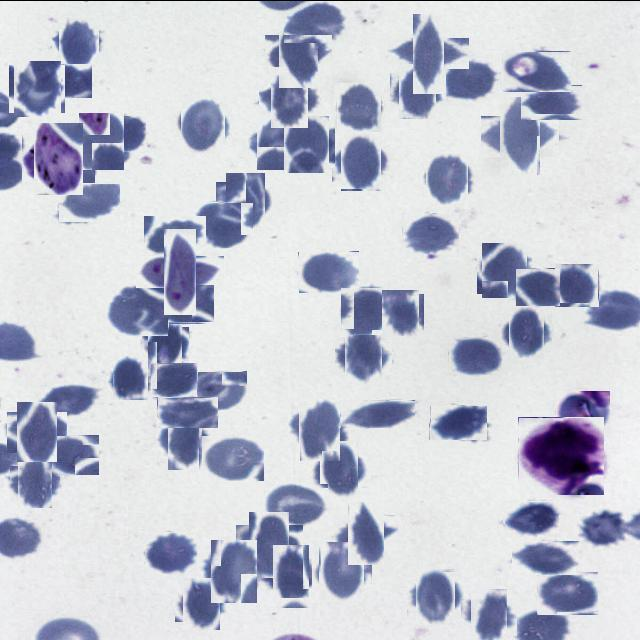leukocyte: (518, 416, 604, 494)
red blood cell: (490, 106, 550, 165), (108, 284, 170, 335), (401, 24, 456, 80), (206, 543, 261, 598), (242, 517, 296, 571), (201, 434, 264, 480), (272, 27, 325, 81), (263, 483, 328, 527), (502, 50, 571, 91), (193, 201, 253, 247), (146, 284, 214, 324), (316, 544, 368, 596), (280, 118, 332, 170), (294, 403, 346, 455), (11, 62, 63, 114), (537, 570, 598, 614), (76, 115, 127, 167), (298, 250, 360, 292), (284, 1, 347, 42), (178, 99, 228, 150), (480, 245, 530, 295), (264, 72, 314, 122), (266, 550, 316, 600), (341, 507, 391, 557), (12, 406, 62, 456), (336, 137, 386, 186), (220, 177, 270, 226), (144, 215, 206, 254), (340, 286, 390, 334), (402, 212, 459, 253), (59, 183, 120, 221), (315, 444, 363, 492), (423, 155, 471, 203), (340, 331, 388, 379), (441, 59, 497, 100), (42, 434, 99, 474), (512, 540, 579, 574), (556, 390, 610, 432), (412, 572, 459, 620), (144, 531, 197, 573), (336, 82, 382, 130), (394, 68, 442, 114), (56, 18, 102, 66), (36, 382, 102, 415), (520, 84, 582, 119), (192, 370, 247, 409), (466, 594, 512, 640), (340, 399, 415, 427), (252, 121, 298, 166), (162, 418, 208, 463), (448, 336, 502, 374), (430, 404, 488, 439), (179, 580, 224, 625), (504, 500, 560, 536), (157, 396, 218, 428), (504, 310, 548, 354), (579, 509, 629, 547), (556, 262, 598, 306), (379, 290, 422, 332), (14, 462, 56, 504), (515, 268, 560, 306), (42, 63, 92, 97), (150, 361, 198, 396), (146, 324, 186, 364), (110, 357, 150, 397), (103, 114, 146, 151)
ring: (150, 241, 210, 301)
trophozoite: (28, 127, 89, 188)
